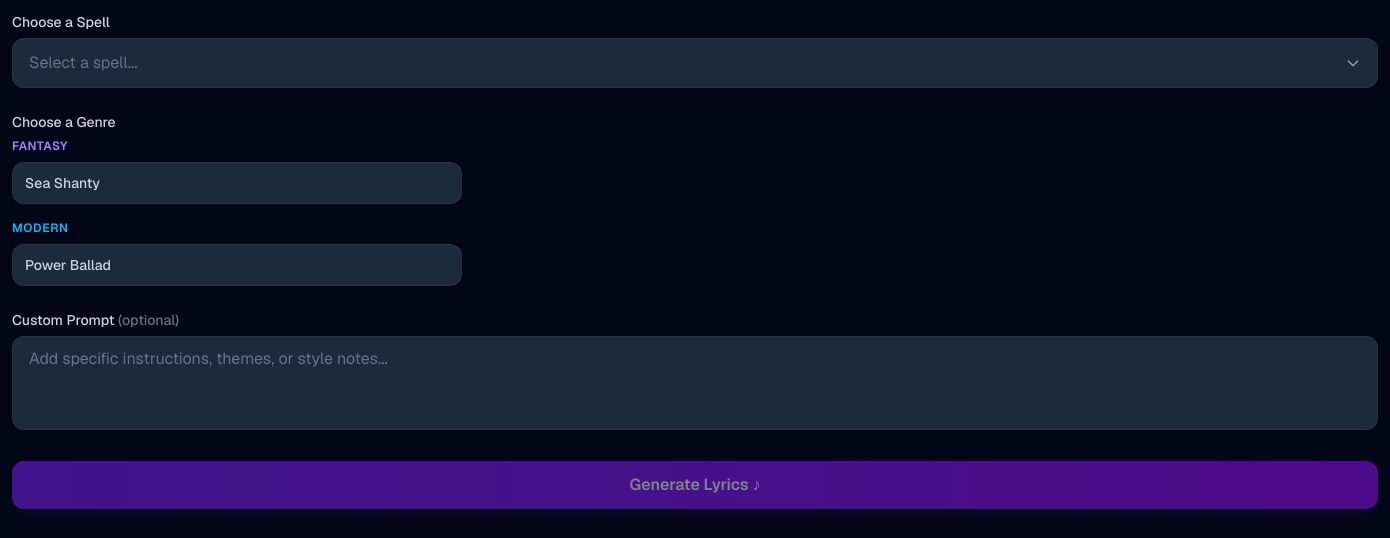
Test: GenerateForm › keeps submit disabled until a spell and a genre are both chosen
This screenshot has width=1390, height=538.
Expected: the button "Generate Lyrics ♪" is disabled, [12,461,1378,509]
Click the button "Select a spell..." at {"x": 83, "y": 62}, box [12,38,1378,88]
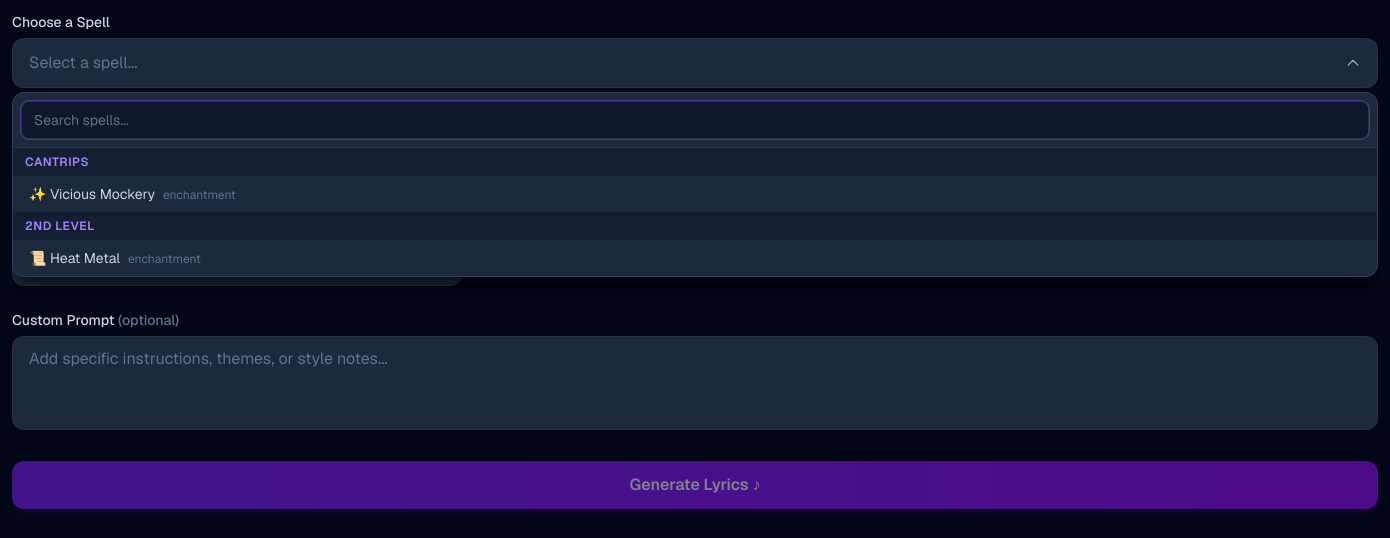
Click the button "Vicious Mockery" at {"x": 102, "y": 194}, box [13,176,1377,212]
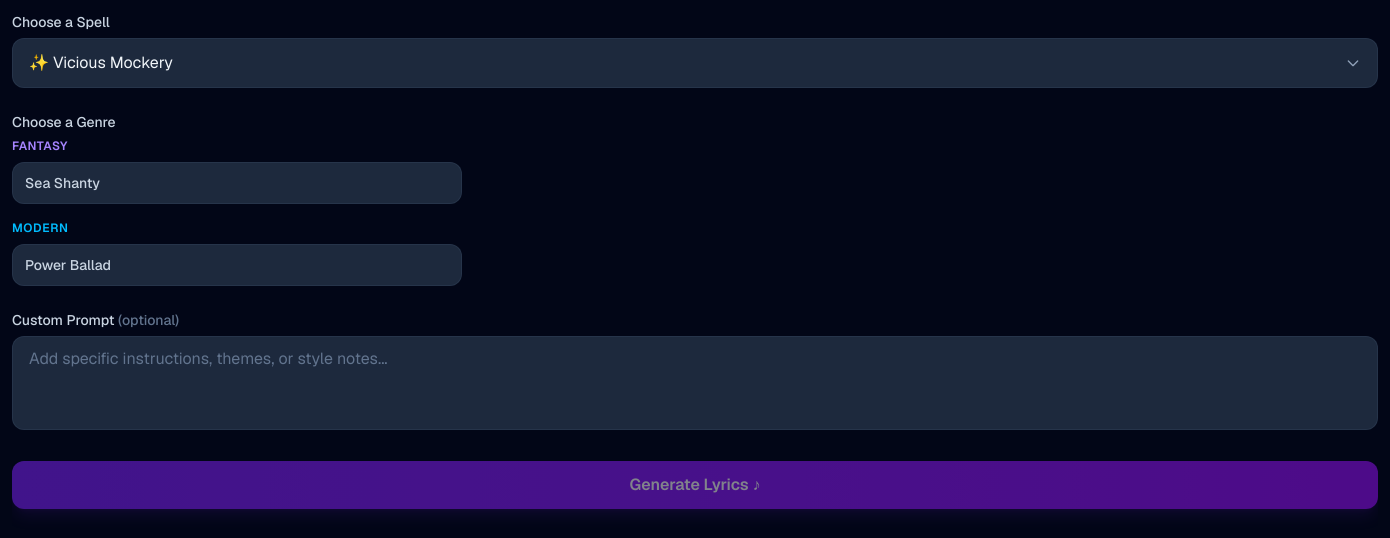
Expected: the button "Generate Lyrics ♪" is disabled, [12,461,1378,509]
Click the button "Sea Shanty" at {"x": 63, "y": 183}, box [12,162,462,204]
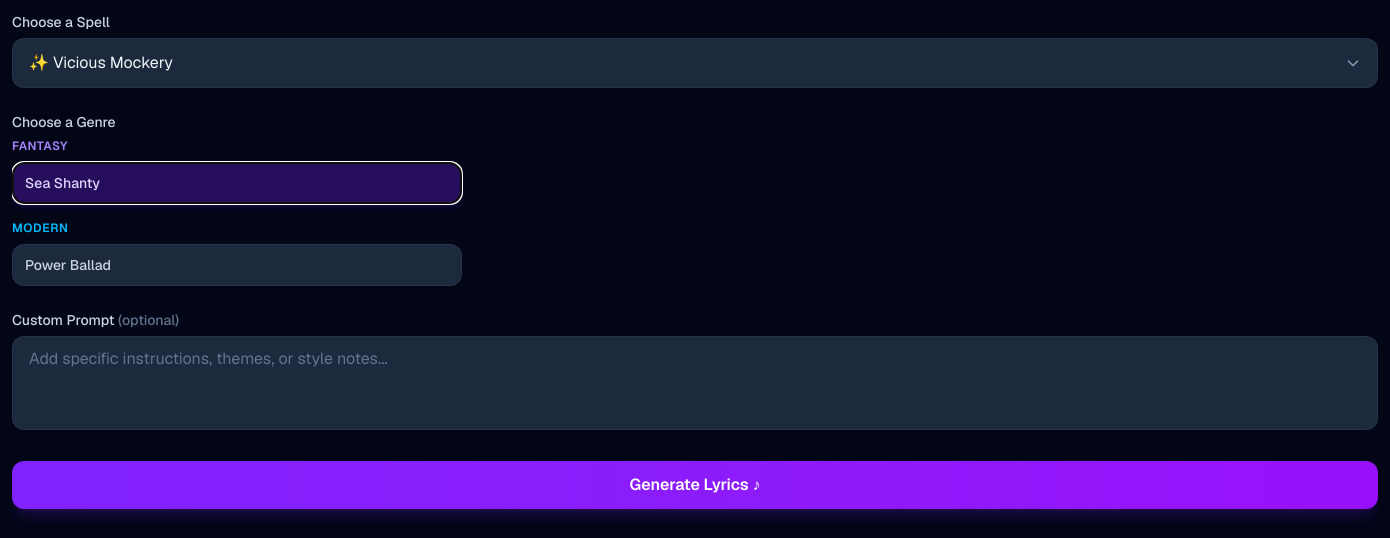
Expected: the button "Generate Lyrics ♪" is enabled, [12,461,1378,509]
